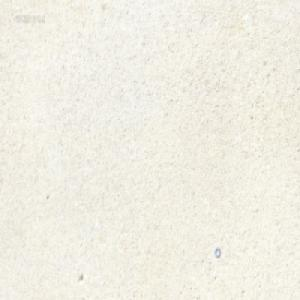Washer: (214, 247, 220, 258)
